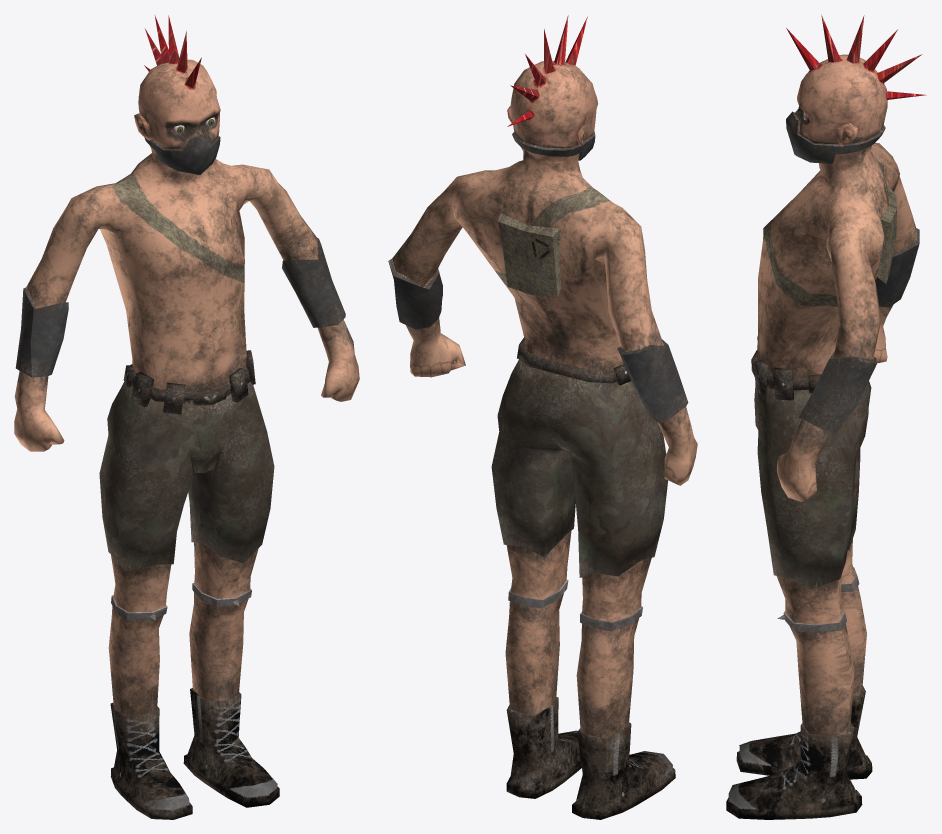
File: Anim_ataque_d1_npc2.0011.obj
The picture shows the model from 3 angles, left to right: view 1: azimuth 30°, elevation 25°; view 2: azimuth 150°, elevation 25°; view 3: azimuth 270°, elevation 25°; orthographic projection. The views are drawn at different scales.
Visible parts, largest first — view 1: polySurface1; view 2: polySurface1; view 3: polySurface1.
Boxes of the visible parts, x1=… form: polySurface1: x1=14, y1=15, x2=359, y2=819; polySurface1: x1=388, y1=15, x2=697, y2=819; polySurface1: x1=726, y1=14, x2=926, y2=819.
Size of the model in its own units: 4.34 by 10.15 by 2.38.
